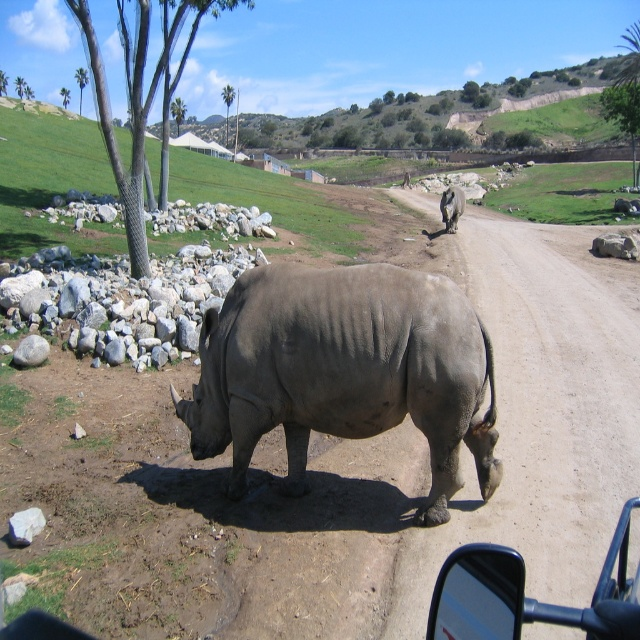Rhinoceros: (167, 259, 506, 526), (440, 183, 466, 236)
